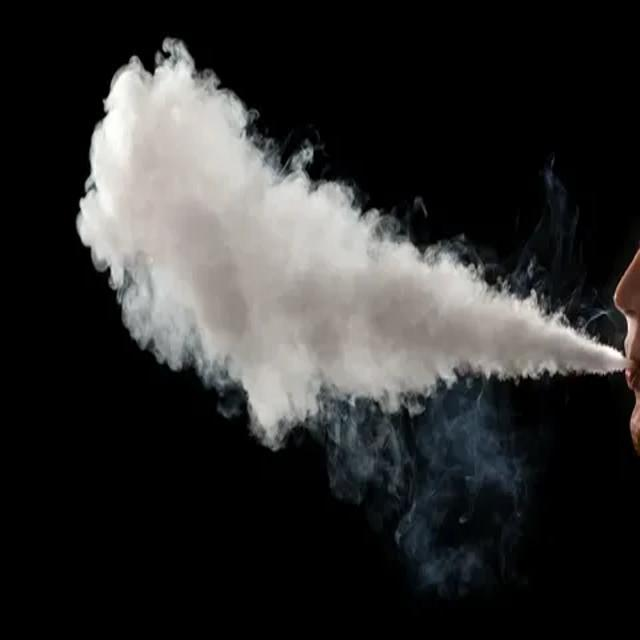Smoke: (78, 37, 625, 424)
